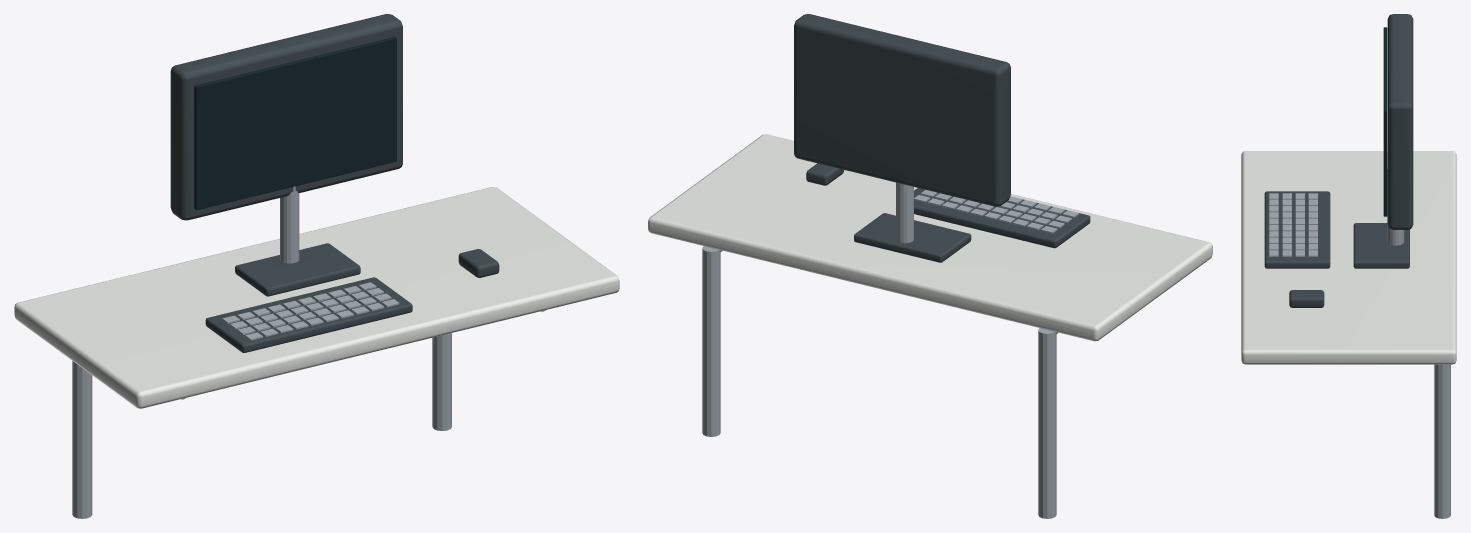
The model's file is charting_counter.fbx.
3 views of the same model, side by side, from view 1: azimuth 30°, elevation 25°; view 2: azimuth 150°, elevation 25°; view 3: azimuth 270°, elevation 25° (orthographic). The views are drawn at different scales.
Visible parts, largest first — view 1: EQ_charting_counter_M_Ivory, EQ_charting_counter_M_ScreenOff, EQ_charting_counter_M_PlasticGrey, EQ_charting_counter_M_SteelBrushed; view 2: EQ_charting_counter_M_Ivory, EQ_charting_counter_M_PlasticGrey, EQ_charting_counter_M_SteelBrushed; view 3: EQ_charting_counter_M_Ivory, EQ_charting_counter_M_PlasticGrey, EQ_charting_counter_M_SteelBrushed, EQ_charting_counter_M_ScreenOff.
Part boxes in pixels (box(x1,y1,x2,y2)): EQ_charting_counter_M_Ivory: box(14, 187, 619, 408); EQ_charting_counter_M_ScreenOff: box(194, 37, 396, 210); EQ_charting_counter_M_PlasticGrey: box(170, 14, 499, 352); EQ_charting_counter_M_SteelBrushed: box(72, 186, 545, 518); EQ_charting_counter_M_Ivory: box(648, 134, 1212, 341); EQ_charting_counter_M_PlasticGrey: box(794, 14, 1090, 262); EQ_charting_counter_M_SteelBrushed: box(702, 182, 1078, 518); EQ_charting_counter_M_Ivory: box(1241, 151, 1456, 364); EQ_charting_counter_M_PlasticGrey: box(1264, 14, 1413, 307); EQ_charting_counter_M_SteelBrushed: box(1269, 168, 1450, 518); EQ_charting_counter_M_ScreenOff: box(1383, 27, 1387, 216).
Size of the model in its own units: 1.02 by 0.9 by 0.46.
